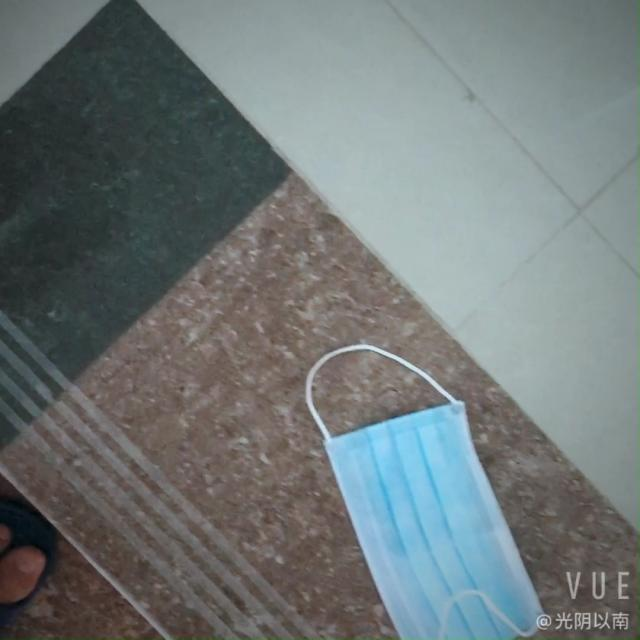face mask: (328, 398, 542, 633)
